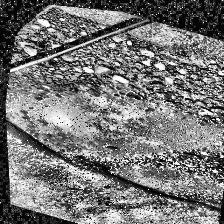pothole: (2, 52, 224, 212)
